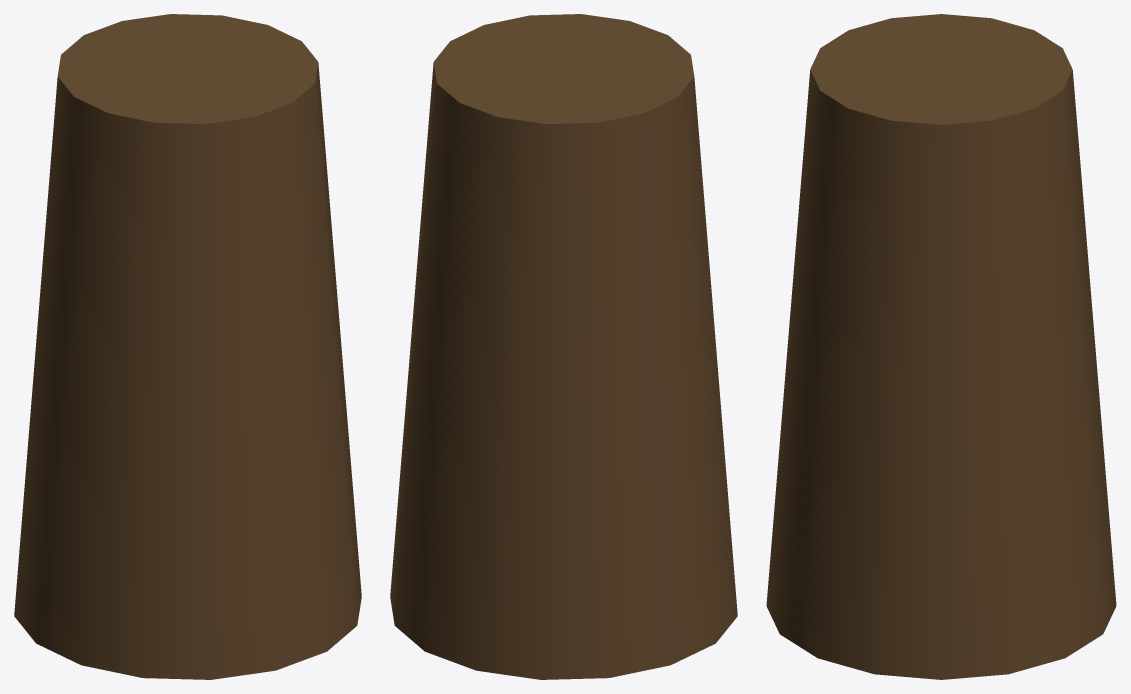
File: trunk-mid.glb
The picture shows the model from 3 angles, left to right: view 1: azimuth 30°, elevation 25°; view 2: azimuth 150°, elevation 25°; view 3: azimuth 270°, elevation 25°; orthographic projection.
Visible parts, largest first — view 1: Trunk Mid; view 2: Trunk Mid; view 3: Trunk Mid.
Boxes of the visible parts, x1,y1,x2,y2 form: Trunk Mid: (14, 14, 361, 679); Trunk Mid: (390, 14, 737, 679); Trunk Mid: (766, 14, 1116, 679).
Bounding box in the file's own units: 19.33 × 32.7 × 19.33.
